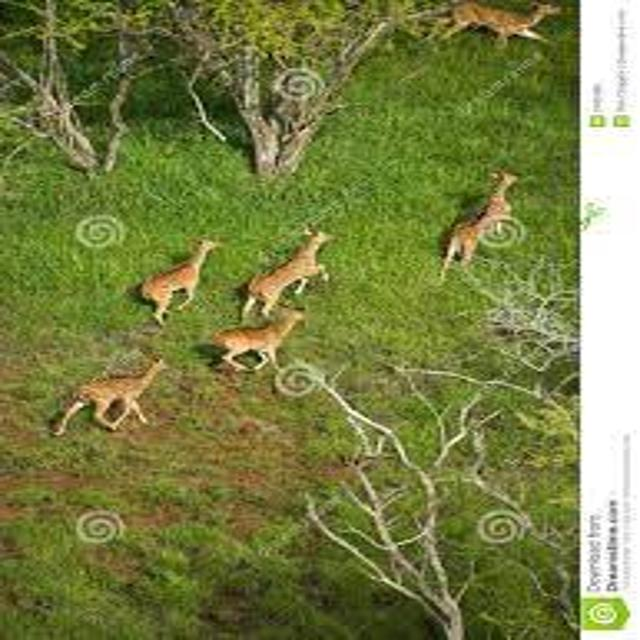deer: (34, 330, 200, 472), (417, 145, 544, 303), (102, 216, 239, 340), (222, 210, 359, 334), (192, 288, 320, 402)
